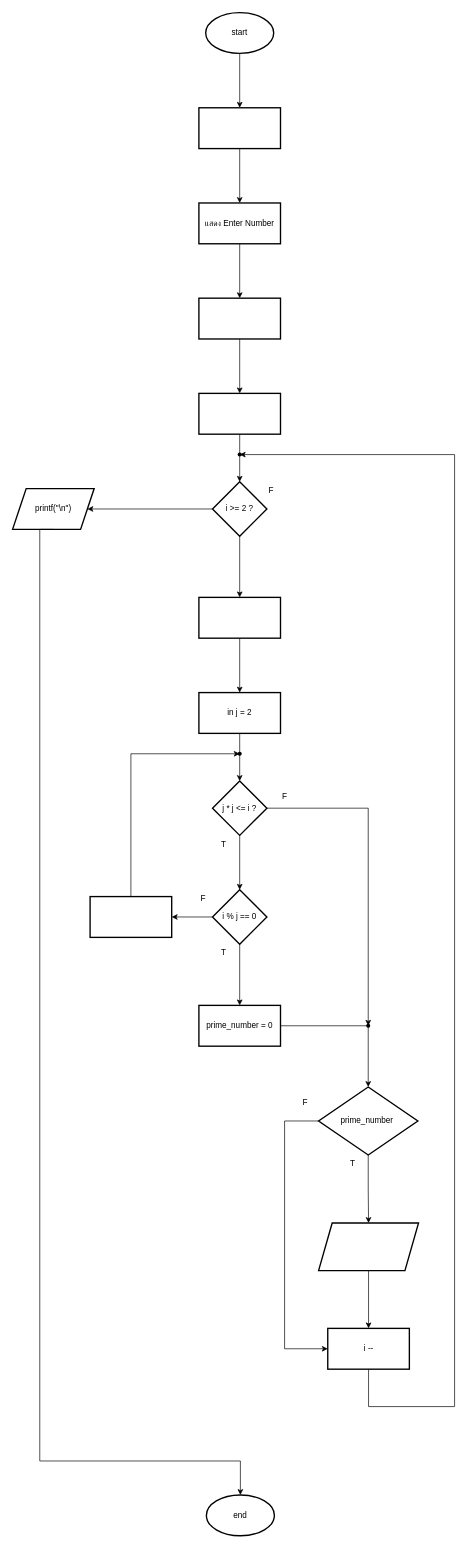
Image size: 472x1548. Some labels were removed from this diagram. The centre of each missing label's shape, as x and y in pixels:
"int i = number" goes at point 239,413.
"int prime_number =1" goes at point 239,617.
"j++" goes at point 130,917.
"รับค่าจากผู้ใช้" goes at point 239,318.
"สร้างตัวแปร number" goes at point 239,128.
"แสดงตัวเลขชี้เฉพาะ" goes at point 368,1246.
